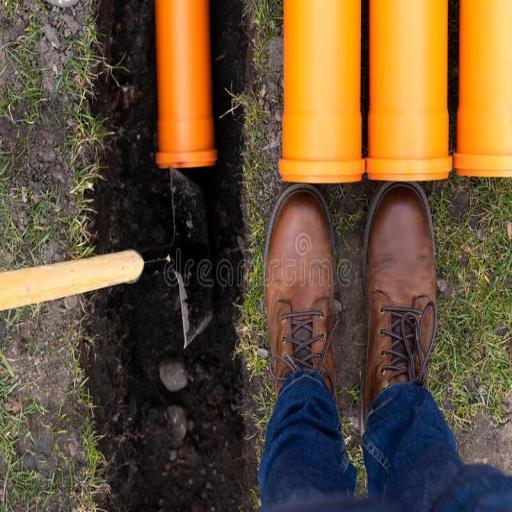safety_boots: (257, 182, 350, 403), (363, 184, 450, 399)
